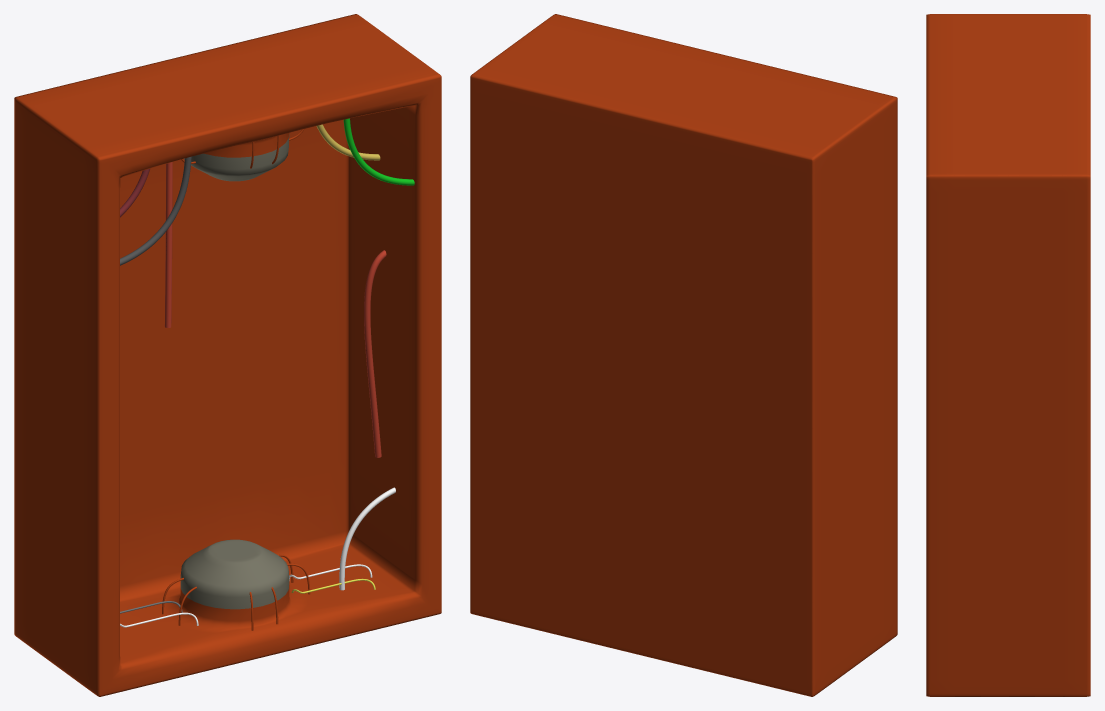
Rendered from FuseBox01.fbx.
3 views of the same model, side by side, from view 1: azimuth 30°, elevation 25°; view 2: azimuth 150°, elevation 25°; view 3: azimuth 270°, elevation 25° (orthographic). The views are drawn at different scales.
Parts seen in each view (by area): view 1: FuseBox; view 2: FuseBox; view 3: FuseBox.
Boxes of the visible parts, box(x1,y1,x2,y2) form: FuseBox: box(14, 14, 441, 696); FuseBox: box(470, 14, 897, 696); FuseBox: box(926, 14, 1090, 696).
Bounding box in the file's own units: 50 × 75 × 21.41.
